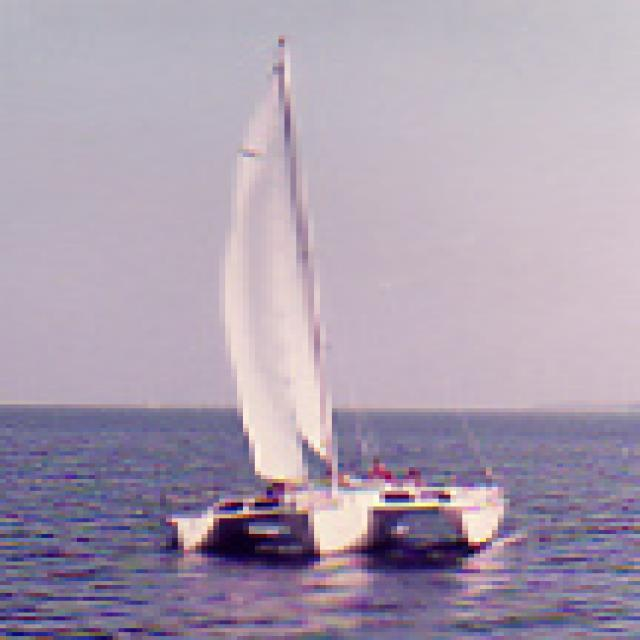Ship: (155, 30, 516, 575)
